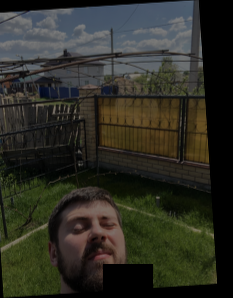without_mask: (62, 208, 125, 291)
